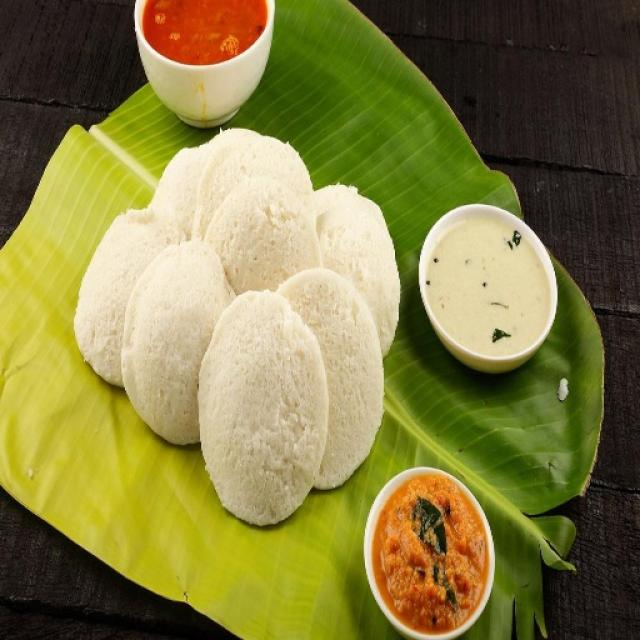IDLI: (70, 127, 406, 527)
RED CHUTNEY: (363, 463, 494, 639), (138, 1, 270, 70)
WHITE CHUTNEY: (424, 210, 549, 357)
